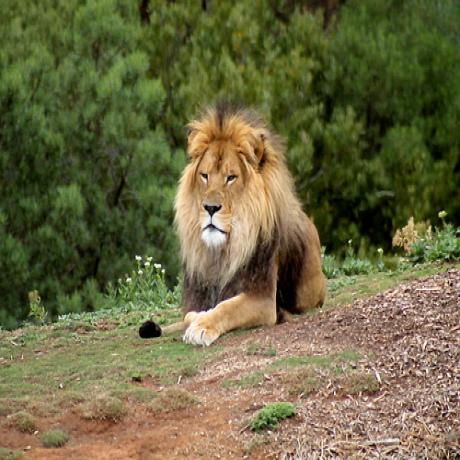Lion: (160, 100, 328, 348)
